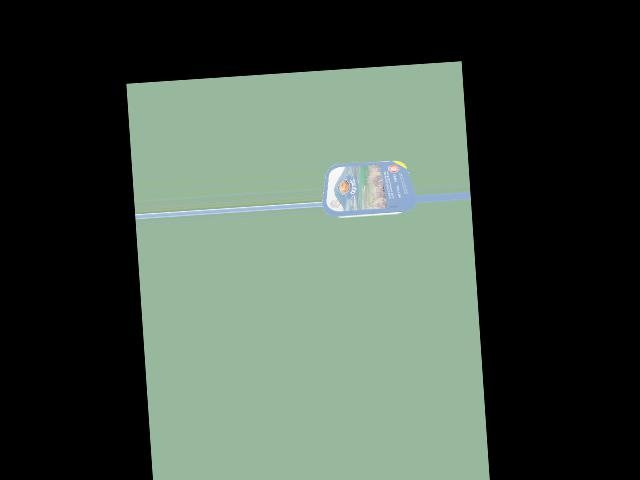cheese: (326, 157, 407, 225)
